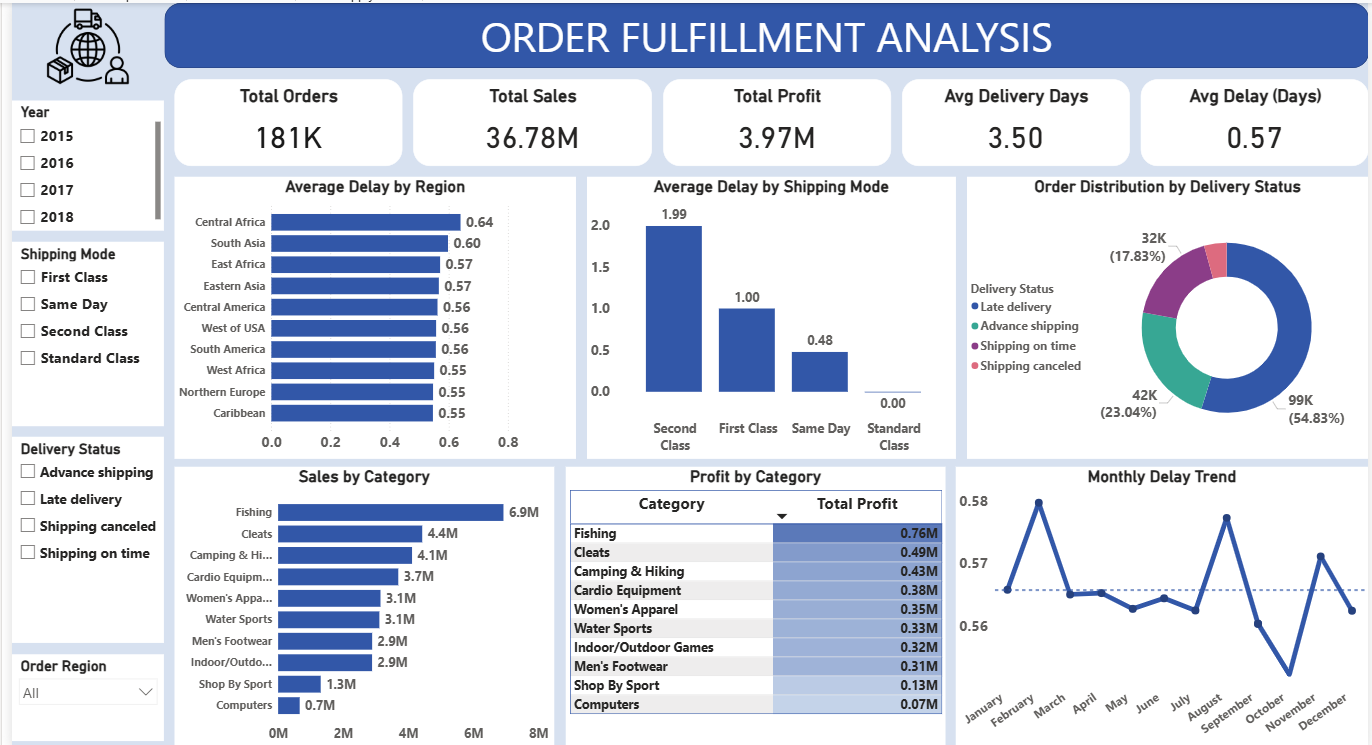

What the dashboard file says about the page in this screenshot:
{"tool":"powerbi","page":{"name":"Page 1","canvas":[2000,1100],"ordinal":0},"visuals":[{"type":"card","title":"Total Orders","fields":{"Values":["Order_Fulfillment_Cleaned.Total Orders"]},"box":[240,112,336,128],"z":0},{"type":"card","title":"Total Sales","fields":{"Values":["Order_Fulfillment_Cleaned.Total Sales"]},"box":[592,112,352,128],"z":1000},{"type":"card","title":"Total Profit","fields":{"Values":["Order_Fulfillment_Cleaned.Total Profit"]},"box":[960,112,336,128],"z":2000},{"type":"card","title":"Avg Delivery Days","fields":{"Values":["Order_Fulfillment_Cleaned.Avg Delivery Days"]},"box":[1312,112,336,128],"z":3000},{"type":"card","title":"Avg Delay (Days)","fields":{"Values":["Order_Fulfillment_Cleaned.Avg Delay"]},"box":[1664,112,336,128],"z":4000},{"type":"clusteredBarChart","title":"Sales by Category","fields":{"Category":["Order_Fulfillment_Cleaned.Category Name"],"Y":["Order_Fulfillment_Cleaned.Total Sales"]},"box":[240,684,560,416],"z":5000},{"type":"tableEx","title":"Profit by Category","fields":{"Values":["Order_Fulfillment_Cleaned.Category Name","Order_Fulfillment_Cleaned.Total Profit"]},"box":[816,684,560,416],"z":6000},{"type":"clusteredBarChart","title":"Average Delay by Region","fields":{"Category":["Order_Fulfillment_Cleaned.Order Region"],"Y":["Order_Fulfillment_Cleaned.Avg Delay"]},"box":[240,256,592,416],"z":7000},{"type":"clusteredColumnChart","title":"Average Delay by Shipping Mode","fields":{"Category":["Order_Fulfillment_Cleaned.Shipping Mode"],"Y":["Order_Fulfillment_Cleaned.Avg Delay"]},"box":[848,256,544,416],"z":8000},{"type":"donutChart","title":"Order Distribution by Delivery Status","fields":{"Category":["Order_Fulfillment_Cleaned.Delivery Status"],"Y":["Order_Fulfillment_Cleaned.Total Orders"]},"box":[1408,256,592,416],"z":9000,"group":"g1"},{"type":"lineChart","title":"Monthly Delay Trend","fields":{"Category":["Order_Fulfillment_Cleaned.Month"],"Y":["Avg(Order_Fulfillment_Cleaned.Delay_Days)"]},"box":[1392,684,608,416],"z":9000},{"type":"shape","title":"ORDER FULFILLMENT ANALYSIS","box":[224,0,1776,96],"z":10000},{"type":"slicer","fields":{"Values":["Order_Fulfillment_Cleaned.Shipping Mode"]},"box":[0,352,224,272],"z":11000},{"type":"slicer","fields":{"Values":["Order_Fulfillment_Cleaned.Delivery Status"]},"box":[0,640,224,304],"z":12000},{"type":"slicer","fields":{"Values":["Order_Fulfillment_Cleaned.Order Region"]},"box":[0,960,224,128],"z":13000},{"type":"slicer","fields":{"Values":["Order_Fulfillment_Cleaned.Year"]},"box":[0,144,224,192],"z":14000},{"type":"group","id":"g1","title":"Group 1","box":[1408,256,592,416],"z":15000},{"type":"image","box":[0,0,224,128],"z":16000}]}

Visuals, with their boxes in screenshot pixels (x1, y1, x2, y2), scaled from the page's 2000x1100 canvas onto the 1372x745 screenshot:
"Total Orders" card: BBox(165, 76, 395, 163)
"Total Sales" card: BBox(406, 76, 648, 163)
"Total Profit" card: BBox(659, 76, 889, 163)
"Avg Delivery Days" card: BBox(900, 76, 1131, 163)
"Avg Delay (Days)" card: BBox(1142, 76, 1371, 163)
"Sales by Category" clusteredBarChart: BBox(165, 463, 549, 744)
"Profit by Category" tableEx: BBox(560, 463, 944, 744)
"Average Delay by Region" clusteredBarChart: BBox(165, 173, 571, 455)
"Average Delay by Shipping Mode" clusteredColumnChart: BBox(582, 173, 955, 455)
"Order Distribution by Delivery Status" donutChart: BBox(966, 173, 1371, 455)
"Monthly Delay Trend" lineChart: BBox(955, 463, 1371, 744)
"ORDER FULFILLMENT ANALYSIS" shape: BBox(154, 0, 1371, 65)
slicer - Order_Fulfillment_Cleaned.Shipping Mode: BBox(0, 238, 154, 423)
slicer - Order_Fulfillment_Cleaned.Delivery Status: BBox(0, 433, 154, 639)
slicer - Order_Fulfillment_Cleaned.Order Region: BBox(0, 650, 154, 737)
slicer - Order_Fulfillment_Cleaned.Year: BBox(0, 98, 154, 228)
"Group 1" group: BBox(966, 173, 1371, 455)
image: BBox(0, 0, 154, 87)
